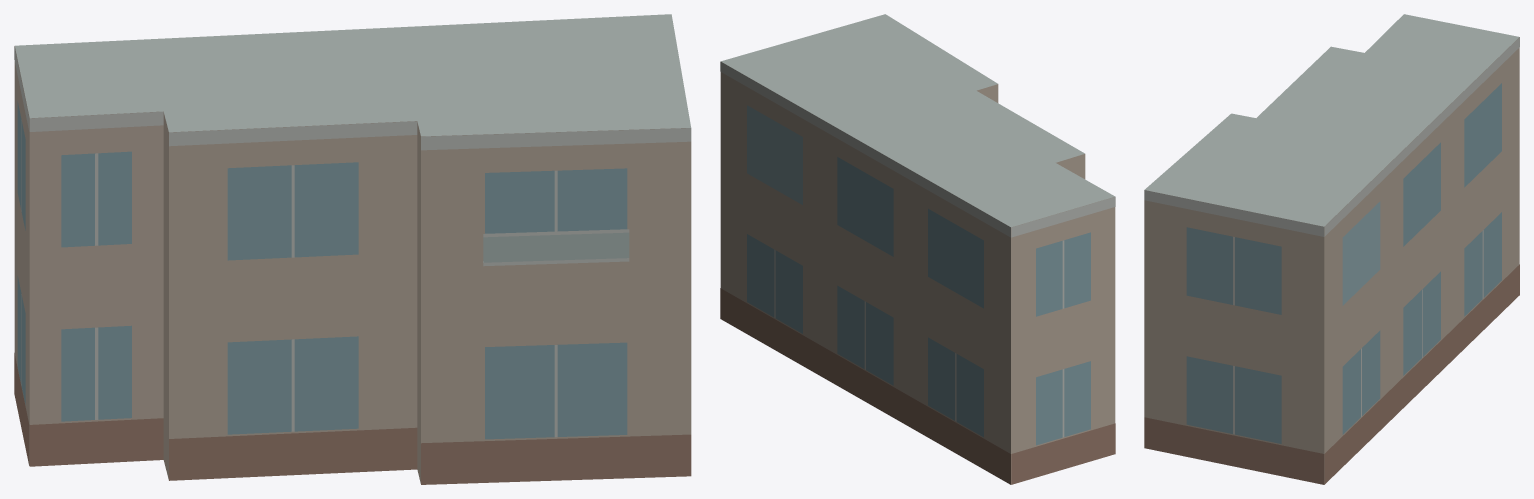
The model's file is survey-upis-32906275.glb.
3 views of the same model, side by side, from view 1: azimuth 30°, elevation 25°; view 2: azimuth 150°, elevation 25°; view 3: azimuth 270°, elevation 25° (orthographic). The views are drawn at different scales.
Parts seen in each view (by area): view 1: survey-upis-32906275.tmp; view 2: survey-upis-32906275.tmp; view 3: survey-upis-32906275.tmp.
Part boxes in pixels (x1,y1,x2,y2): survey-upis-32906275.tmp: [14, 14, 691, 484]; survey-upis-32906275.tmp: [720, 14, 1115, 484]; survey-upis-32906275.tmp: [1144, 14, 1519, 484].
Size of the model in its own units: 10.79 by 6.1 by 8.05.
